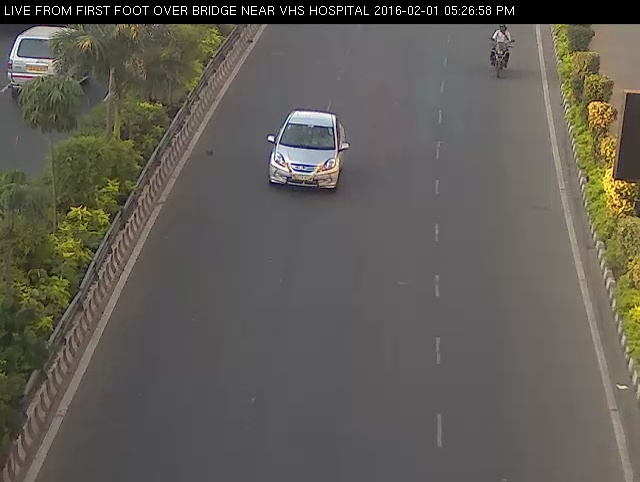Car: (246, 103, 359, 205)
Person: (480, 17, 520, 84)
